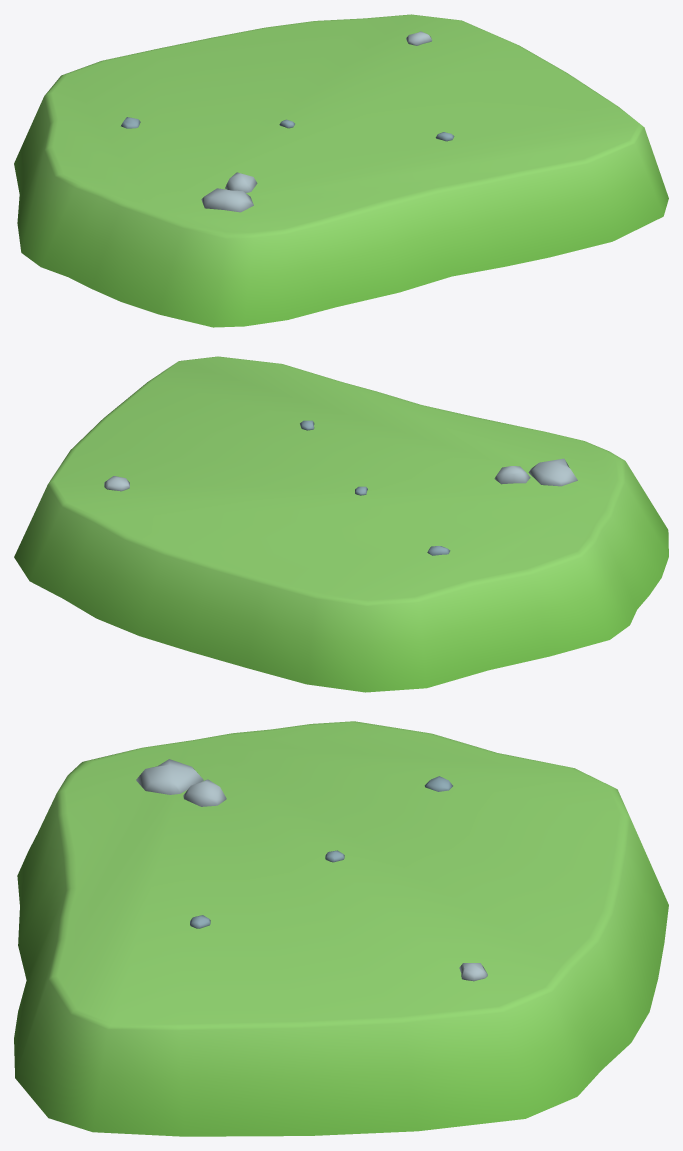
Rendered from Island_04.fbx.
The picture shows the model from 3 angles, top to bottom: view 1: azimuth 30°, elevation 25°; view 2: azimuth 150°, elevation 25°; view 3: azimuth 270°, elevation 25°; orthographic projection. The views are drawn at different scales.
Parts seen in each view (by area): view 1: Island_04; view 2: Island_04; view 3: Island_04.
Boxes of the visible parts, bbox=[...] form: Island_04: bbox=[14, 14, 668, 327]; Island_04: bbox=[14, 356, 668, 692]; Island_04: bbox=[14, 721, 668, 1136].
Bounding box in the file's own units: 32 × 4.81 × 25.83.
